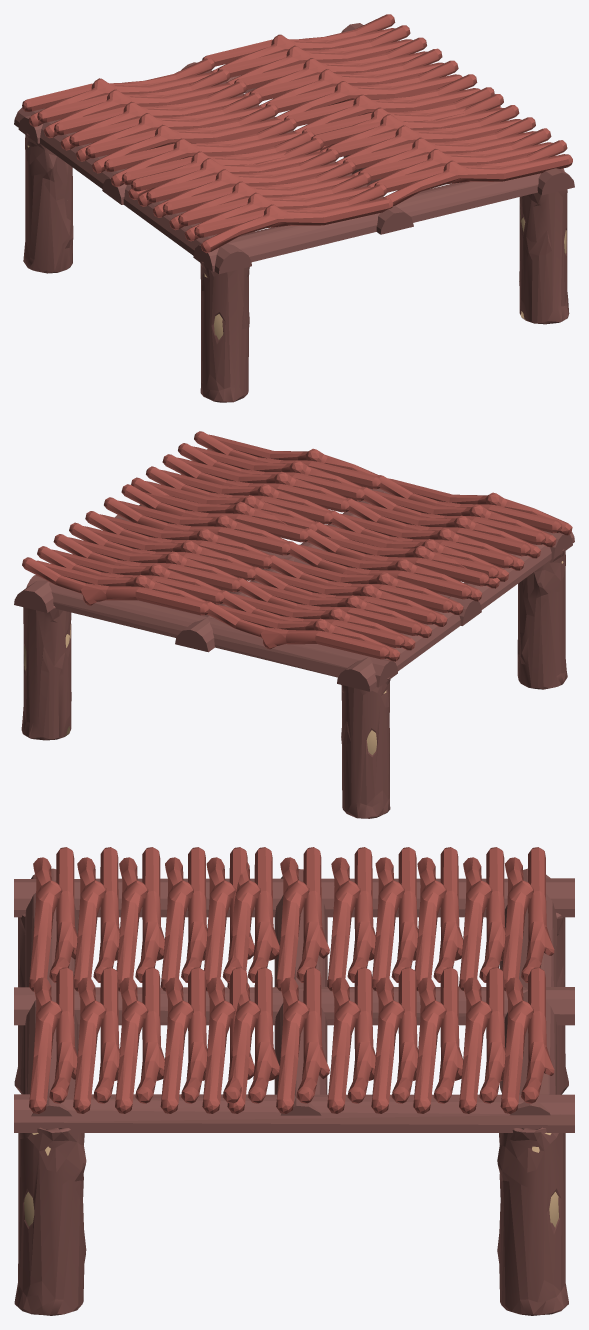
The model's file is desk.fbx.
The picture shows the model from 3 angles, top to bottom: view 1: azimuth 30°, elevation 25°; view 2: azimuth 150°, elevation 25°; view 3: azimuth 270°, elevation 25°; orthographic projection. The views are drawn at different scales.
Parts seen in each view (by area): view 1: desk; view 2: desk; view 3: desk.
Boxes of the visible parts, box(x1,y1,x2,y2) form: desk: box(14, 14, 574, 402); desk: box(14, 431, 574, 818); desk: box(14, 847, 574, 1315).
Bounding box in the file's own units: 343 × 155 × 328.
